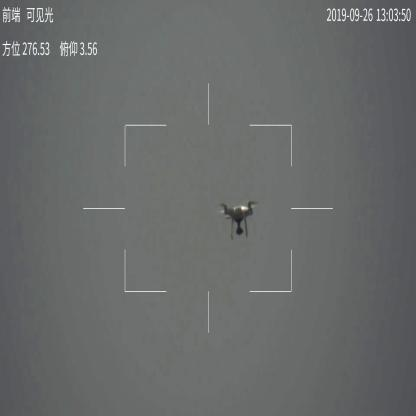uav: (214, 198, 260, 240)
